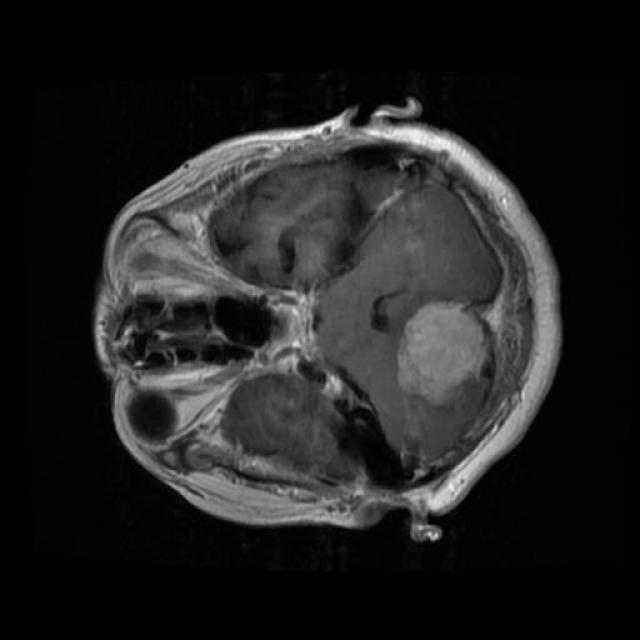Meningioma: (397, 302, 489, 406)
